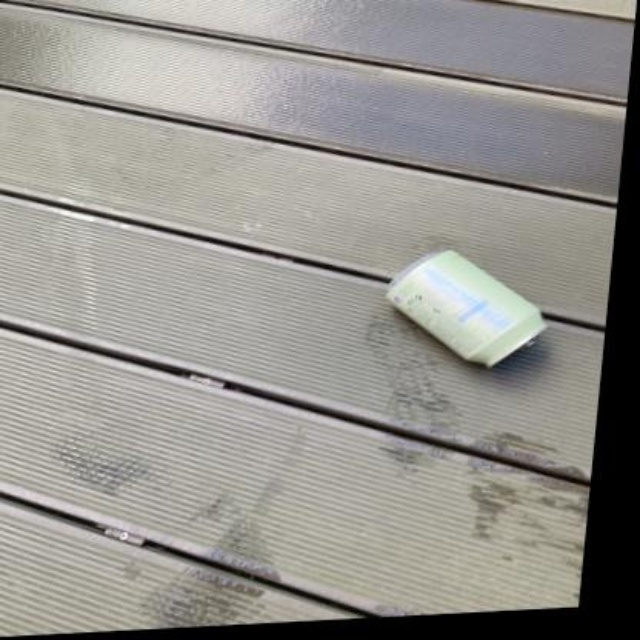trash: (386, 251, 543, 366)
